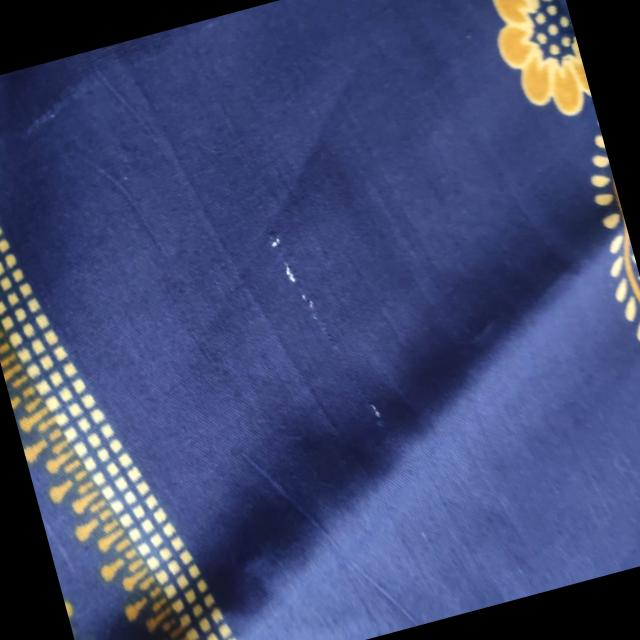selvet: (242, 168, 404, 452)
